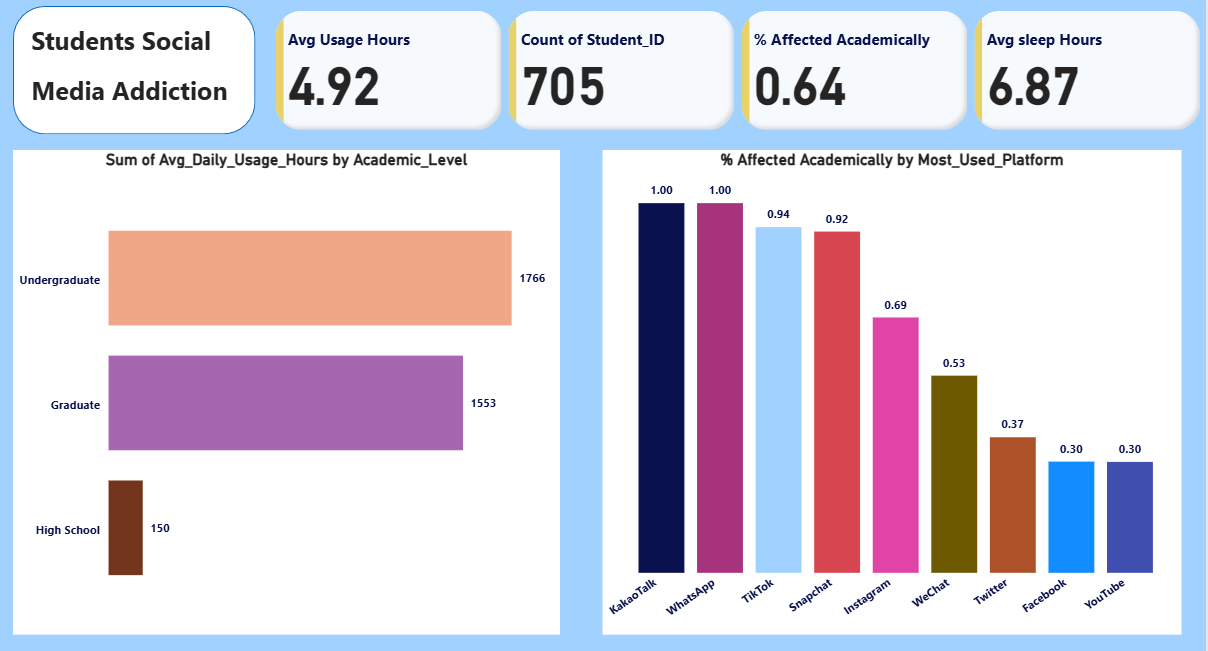

What the dashboard file says about the page in this screenshot:
{"tool":"powerbi","page":{"name":"Academic impact","canvas":[1280,720],"ordinal":2},"visuals":[{"type":"cardVisual","fields":{"Data":["Platform Details.Avg Usage Hours","CountNonNull(Student Details.Student_ID)","Platform Details.% Affected Academically","Student Details.Avg sleep Hours"]},"box":[289.1,15.1,990.2,136.1],"z":0},{"type":"shape","box":[15.1,15.1,257,136.1],"z":1000},{"type":"textbox","box":[30.2,28.3,226.8,109.6],"z":2000},{"type":"barChart","fields":{"Y":["Sum(Platform Details.Avg_Daily_Usage_Hours)"],"Category":["Student Details.Academic_Level"]},"box":[15.1,168.2,580.2,514],"z":3000},{"type":"columnChart","fields":{"Category":["Platform Details.Most_Used_Platform"],"Y":["Platform Details.% Affected Academically"]},"box":[640.6,168.2,614.2,514],"z":4000}]}

Visuals, with their boxes on the page's 1280x720 design canvas (x1, y1, x2, y2). These are canvas units, not pixel positions in the 1208x651 screenshot, which may show the page scaled, cropped or inside an application window:
cardVisual - Platform Details.Avg Usage Hours x CountNonNull(Student Details.Student_ID): (left=289, top=15, right=1279, bottom=151)
shape: (left=15, top=15, right=272, bottom=151)
textbox: (left=30, top=28, right=257, bottom=138)
barChart - Sum(Platform Details.Avg_Daily_Usage_Hours) x Student Details.Academic_Level: (left=15, top=168, right=595, bottom=682)
columnChart - Platform Details.Most_Used_Platform x Platform Details.% Affected Academically: (left=641, top=168, right=1255, bottom=682)
